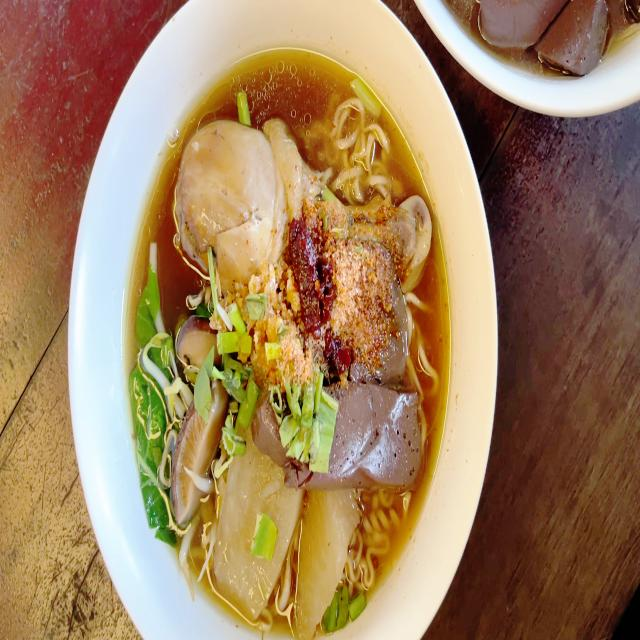boiled_chicken_blood_jelly: (463, 0, 640, 68), (330, 384, 419, 487)
chicken_drumstick: (171, 121, 431, 288)
daikon_radish: (216, 476, 358, 614)
noodle: (108, 38, 460, 612), (442, 0, 640, 71)
